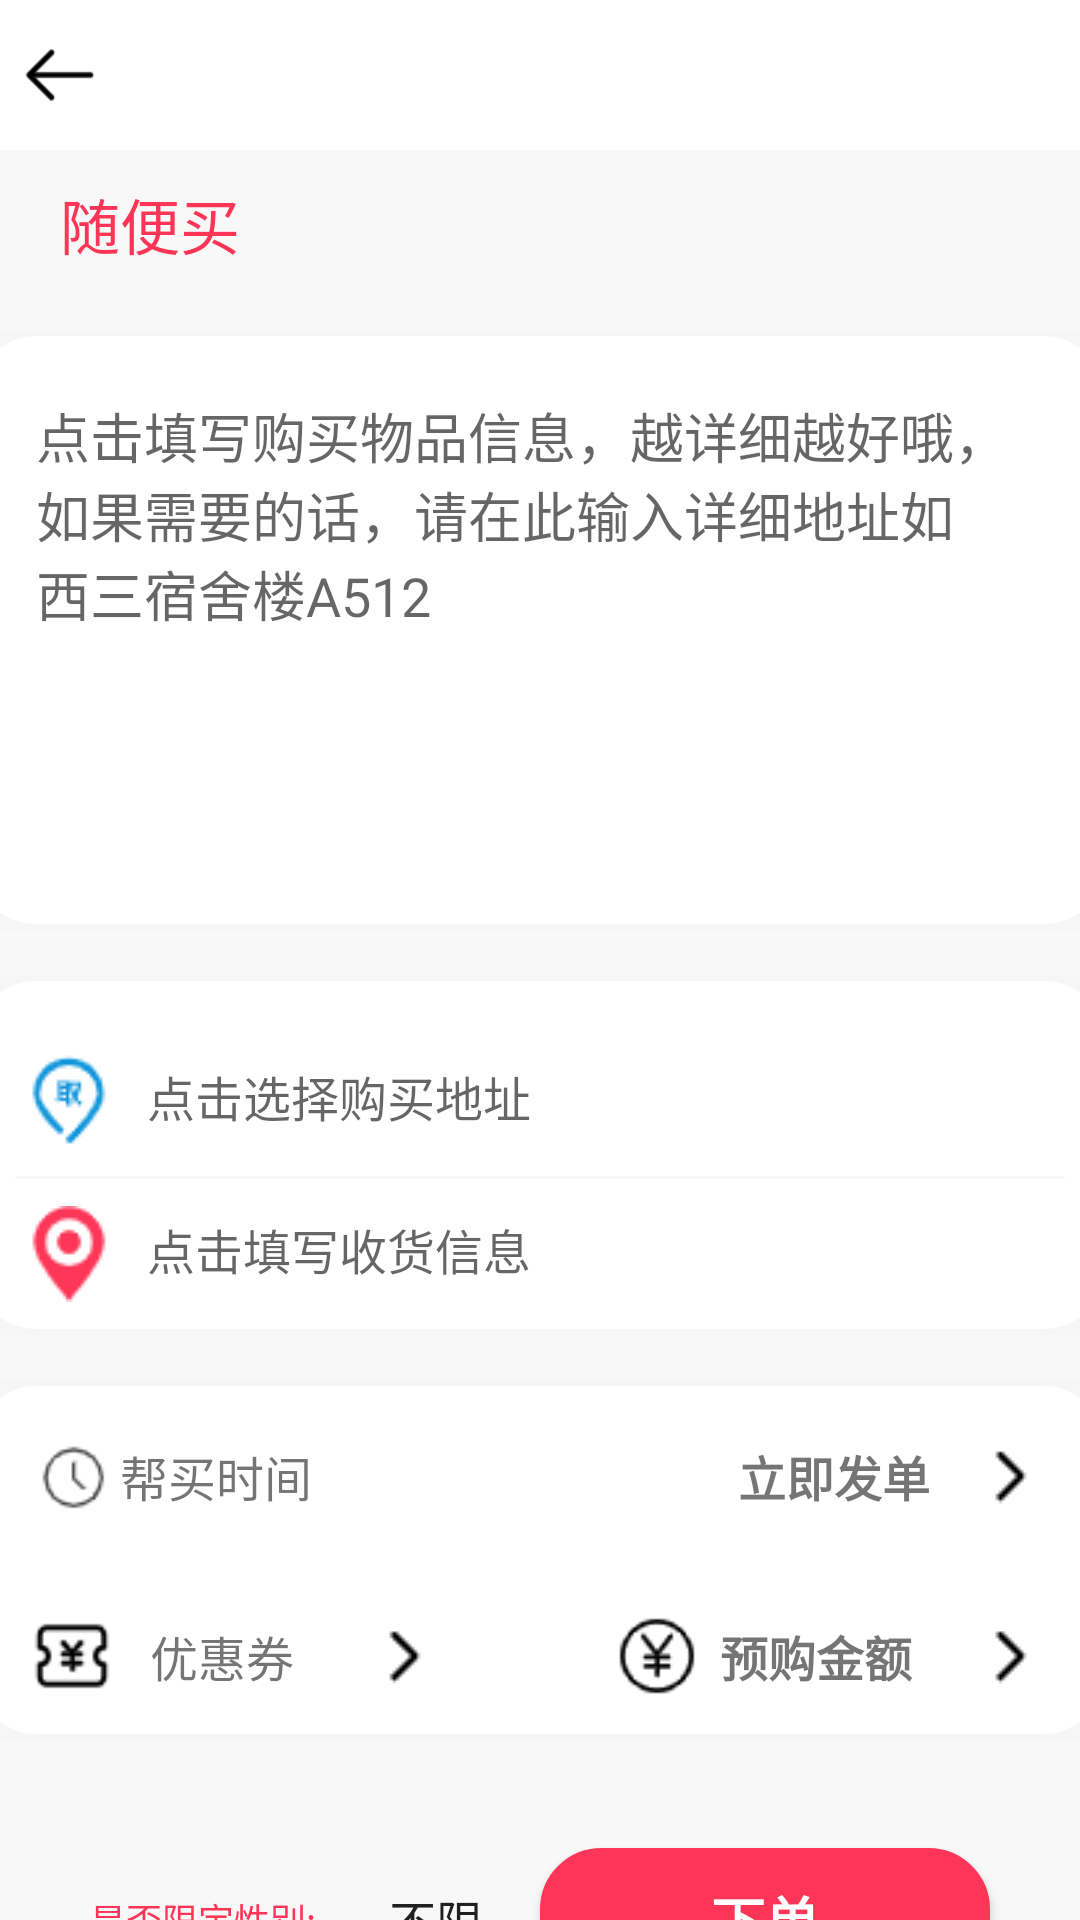

Icon click points for this 1080 x 1920 phone screenshot, format [x,y]:
coupon pic: [72,1656]
left arrow: [59,75]
money pic: [657,1656]
more: [1011,1477], [405,1657], [1011,1657]
time: [73,1477]
